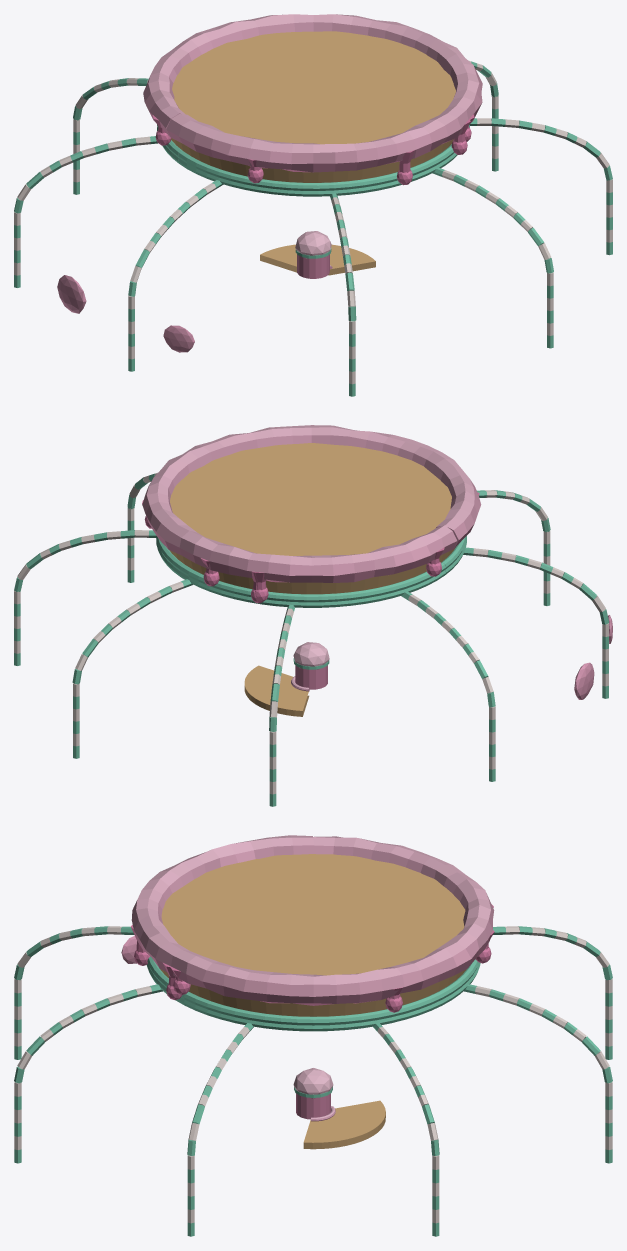
Rendered from goo_jar_trim_2_top@candy.fbx.
3 renders of one model, top to bottom at view 1: azimuth 30°, elevation 25°; view 2: azimuth 150°, elevation 25°; view 3: azimuth 270°, elevation 25°, orthographic. The views are drawn at different scales.
Visible parts, largest first — view 1: goo_jar_trim_2_top; view 2: goo_jar_trim_2_top; view 3: goo_jar_trim_2_top.
Part boxes in pixels (box(x1,y1,x2,y2)): goo_jar_trim_2_top: box(14, 14, 612, 396); goo_jar_trim_2_top: box(14, 425, 612, 806); goo_jar_trim_2_top: box(14, 835, 612, 1236).
Bounding box in the file's own units: 53.09 × 20.05 × 50.9.
